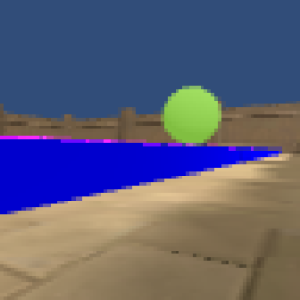goodGoal: (161, 83, 228, 145)
platform: (1, 145, 278, 207)
ramp: (1, 133, 57, 142)
